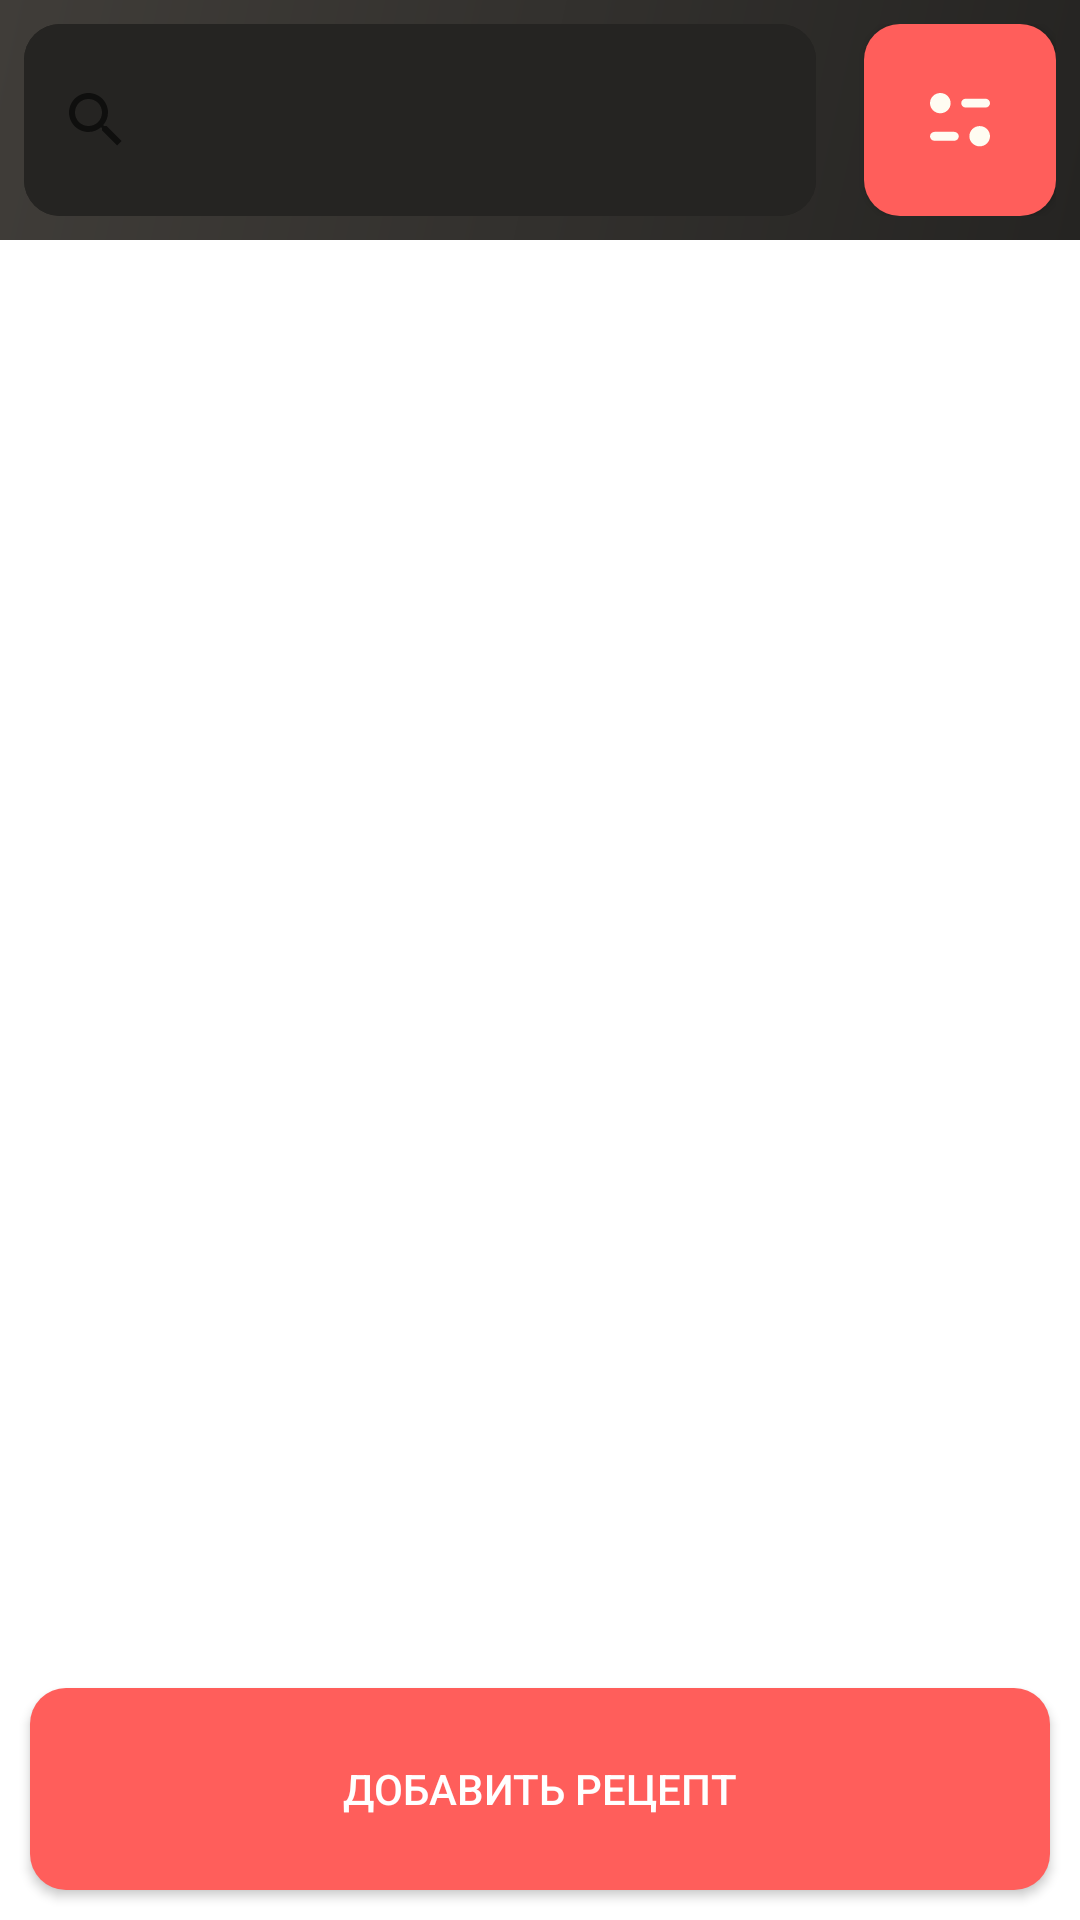

Point at icon controls on the screen. Image size 1080 × 1920, points as [x,y].
filter: [960,120]
